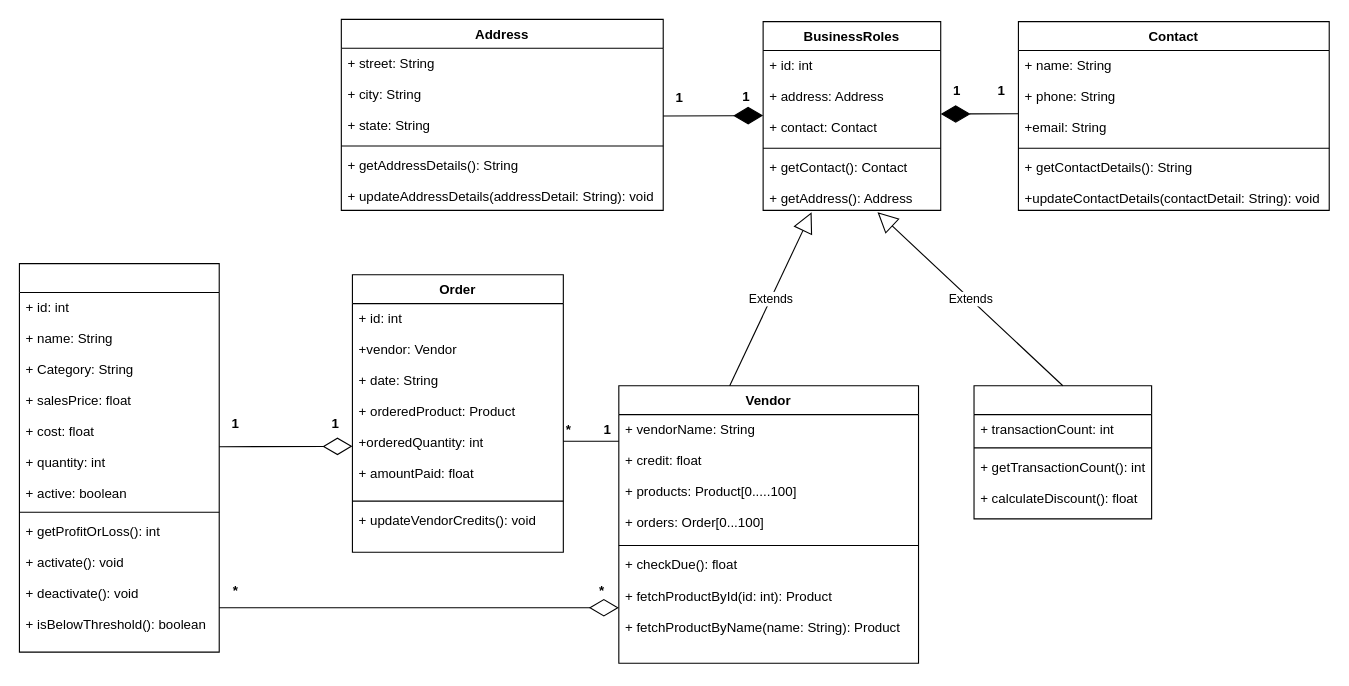
This 1349x686 diagram has some shape labels left out. Here are the shapes that lost their labels. From the top down, the box of each, then its label:
(18, 263, 219, 652): Product
(973, 385, 1152, 519): Customer
